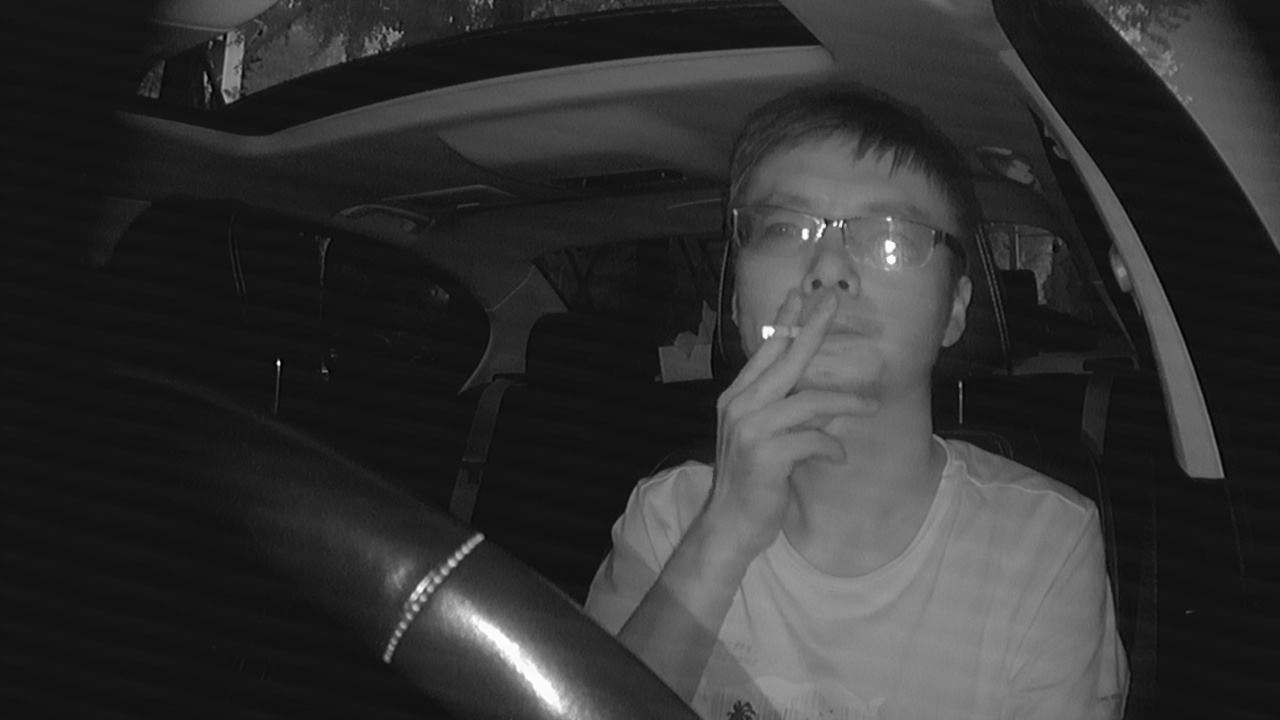hand: (724, 296, 865, 467)
